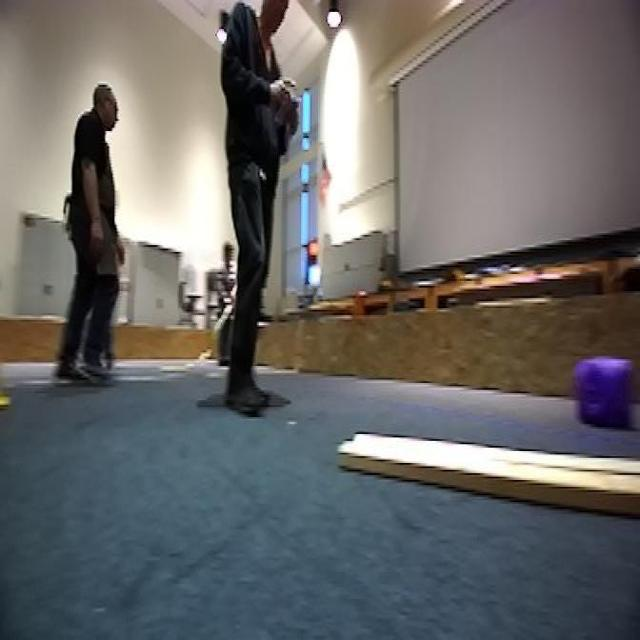frc_cube: (572, 352, 634, 434)
